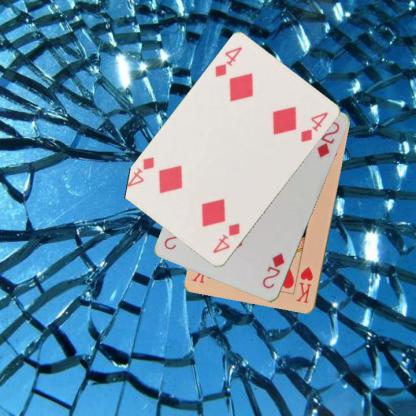2d: (259, 251, 286, 290)
4d: (212, 44, 244, 80), (210, 221, 242, 255)
Kh: (293, 264, 315, 305)
